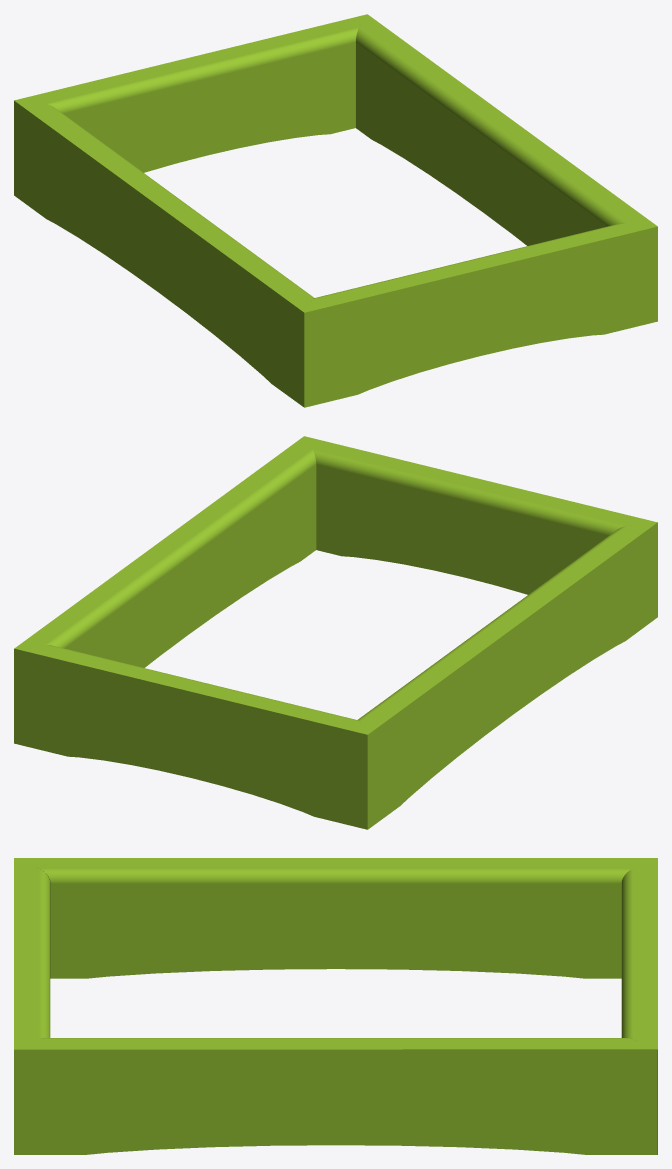
Rendered from frame.gltf.
3 renders of one model, top to bottom at view 1: azimuth 30°, elevation 25°; view 2: azimuth 150°, elevation 25°; view 3: azimuth 270°, elevation 25°, orthographic. The views are drawn at different scales.
Visible parts, largest first — view 1: Корпус голубой.004; view 2: Корпус голубой.004; view 3: Корпус голубой.004.
Part boxes in pixels (x1,y1,x2,y2): Корпус голубой.004: (14, 14, 657, 407); Корпус голубой.004: (14, 436, 657, 829); Корпус голубой.004: (14, 858, 657, 1154).
Bounding box in the file's own units: 11.95 × 3.07 × 16.97.
